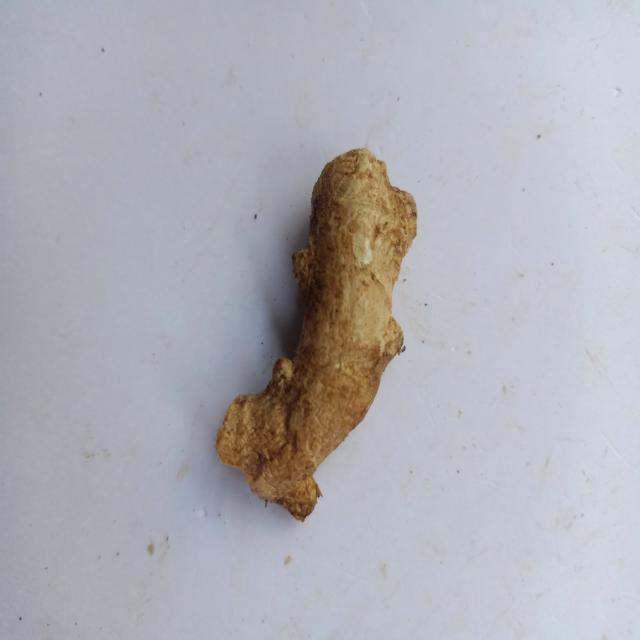Ginger: (216, 148, 417, 521)
